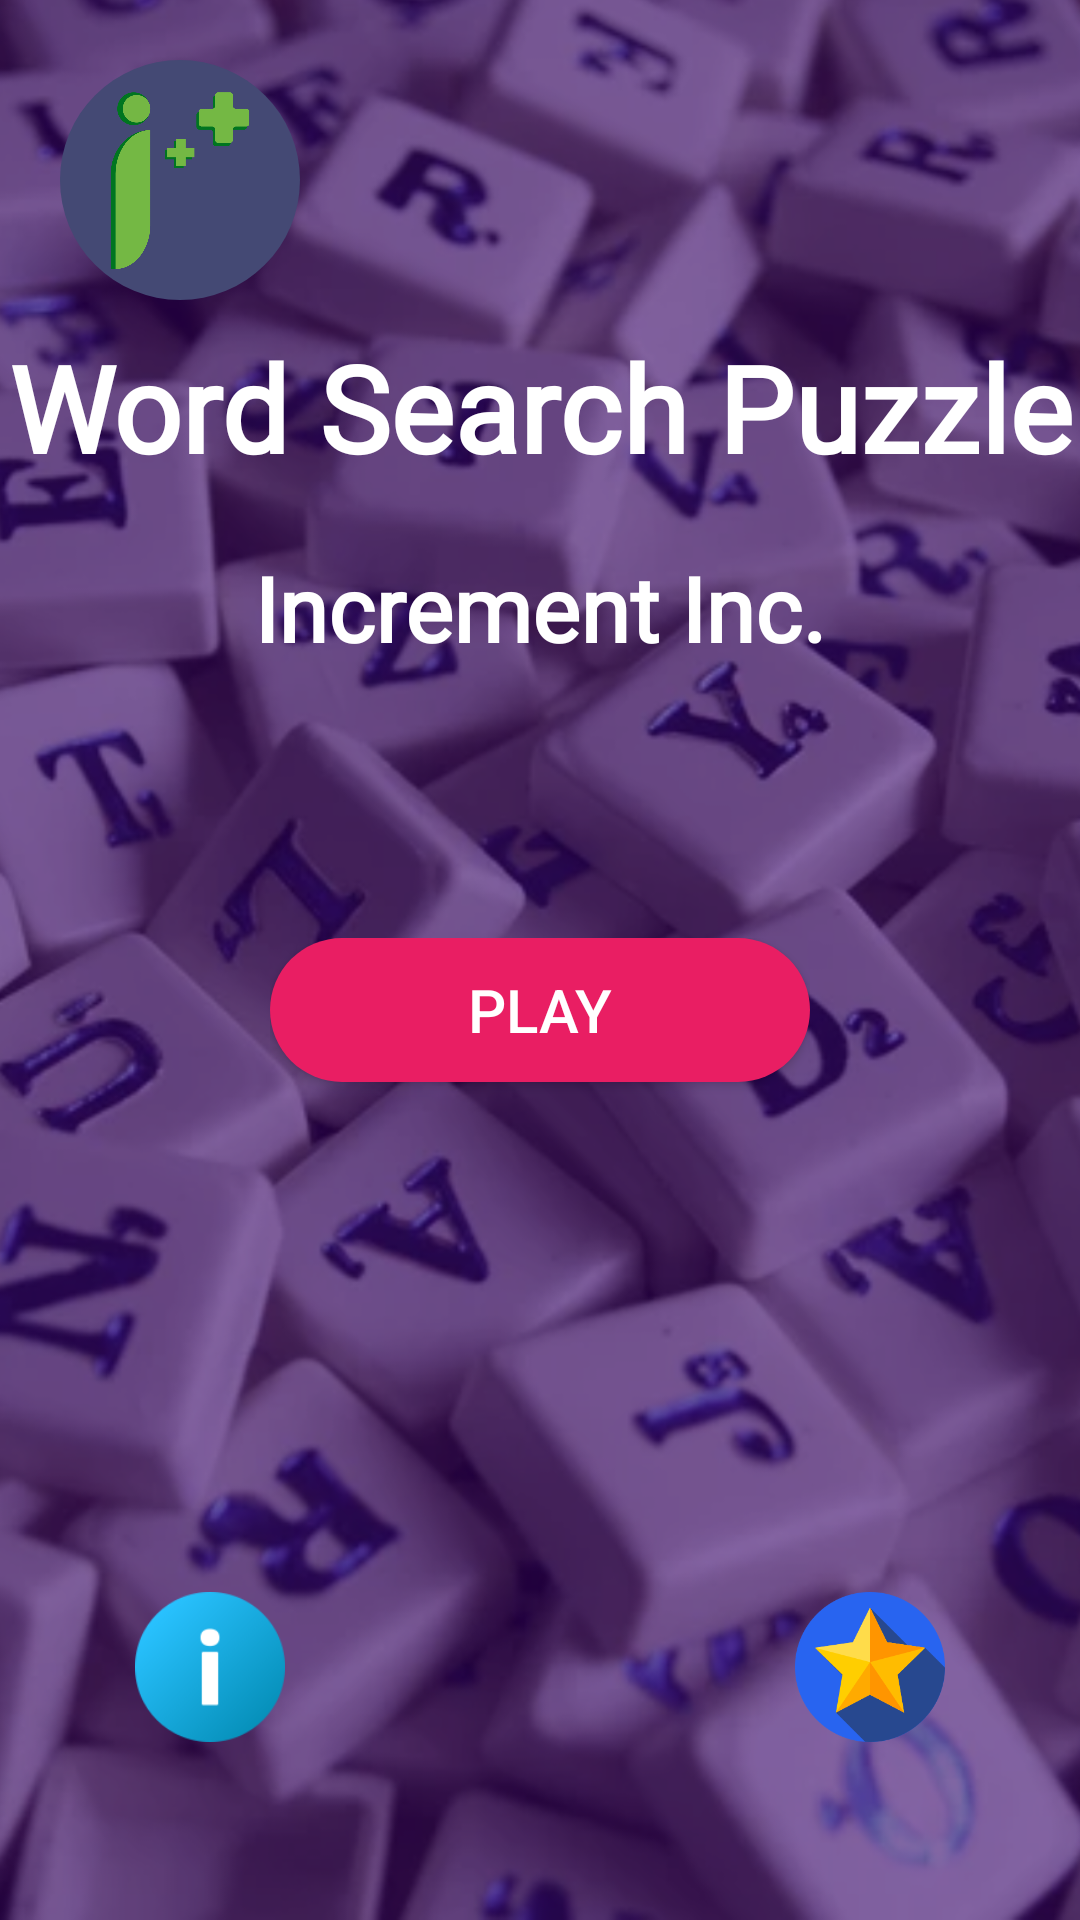

Where to tap for icons on this 1080px×1920px app screen, as point (x, y):
star: point (870, 1667)
